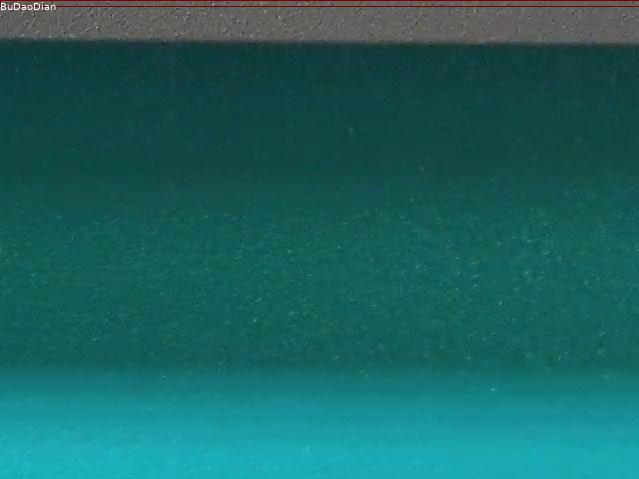BuDaoDian: (0, 0, 639, 6)
